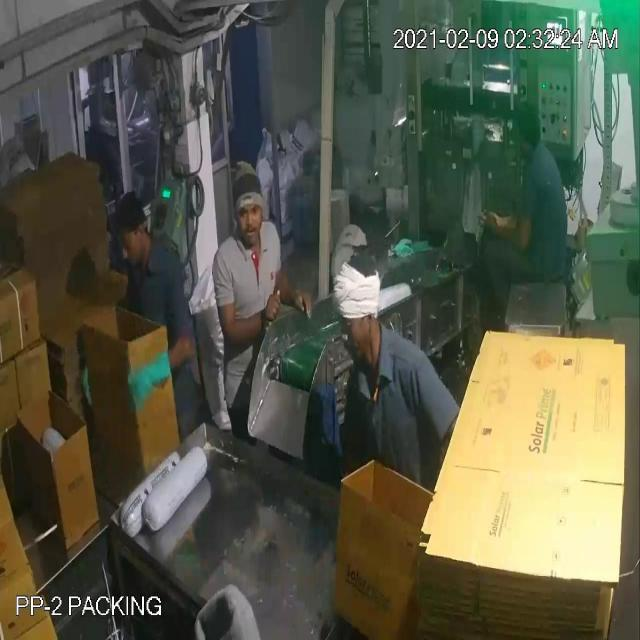Gloves: (49, 62, 503, 390)
